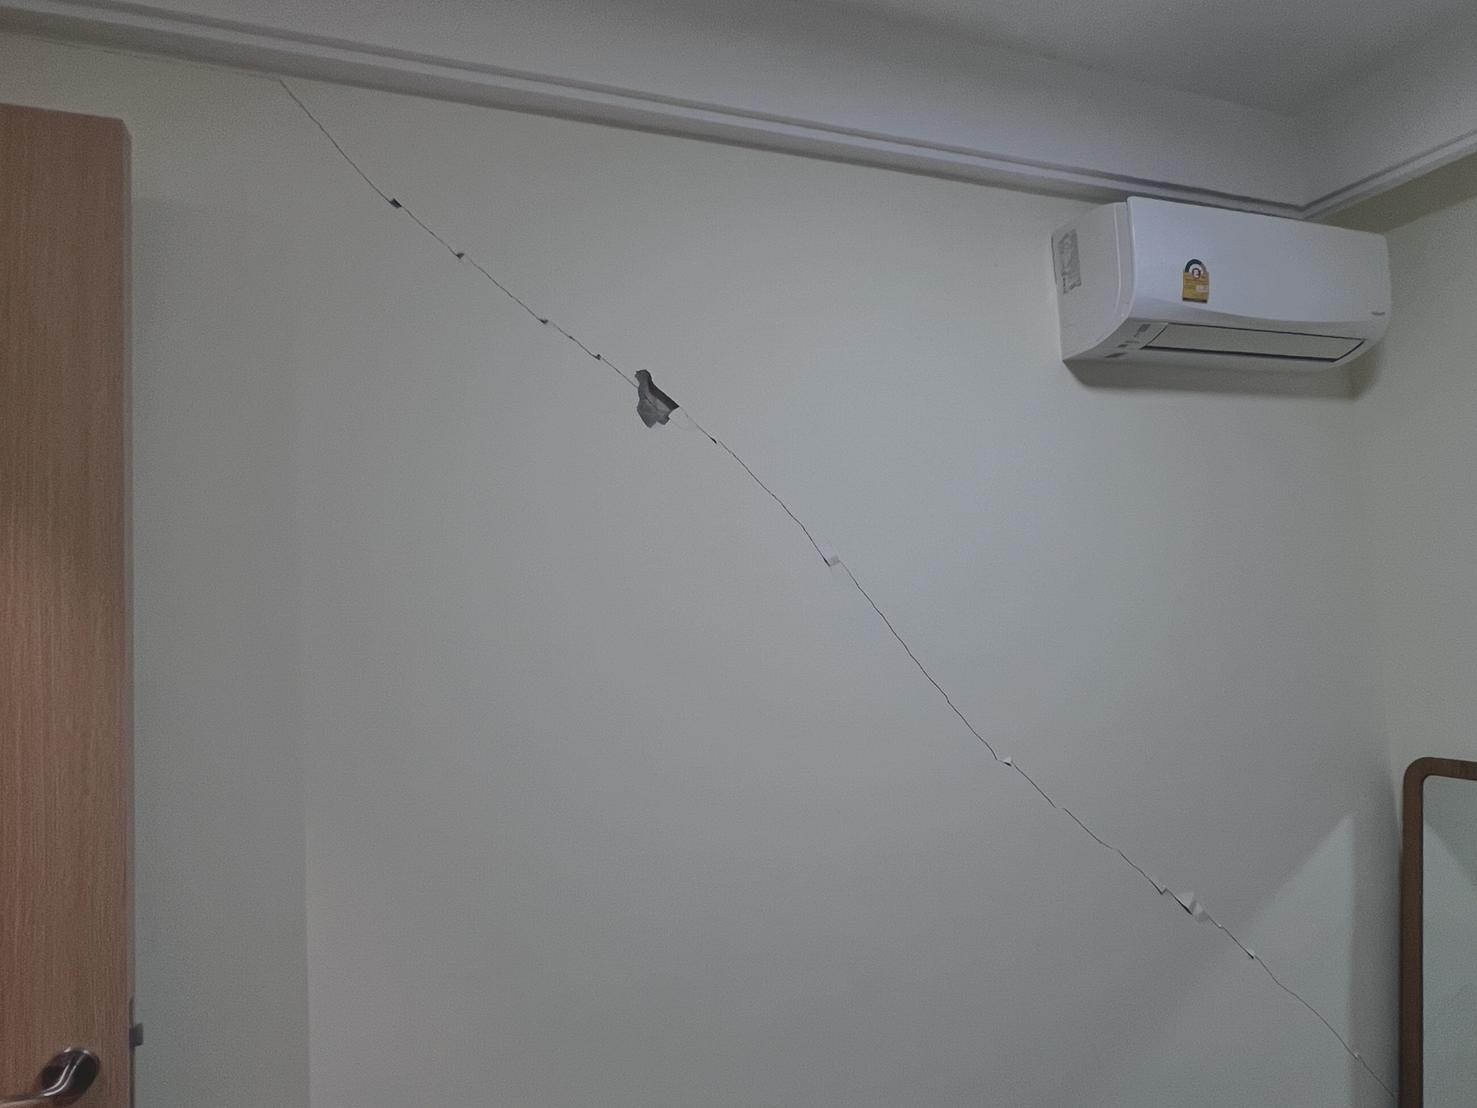High: (547, 362, 1404, 1108)
